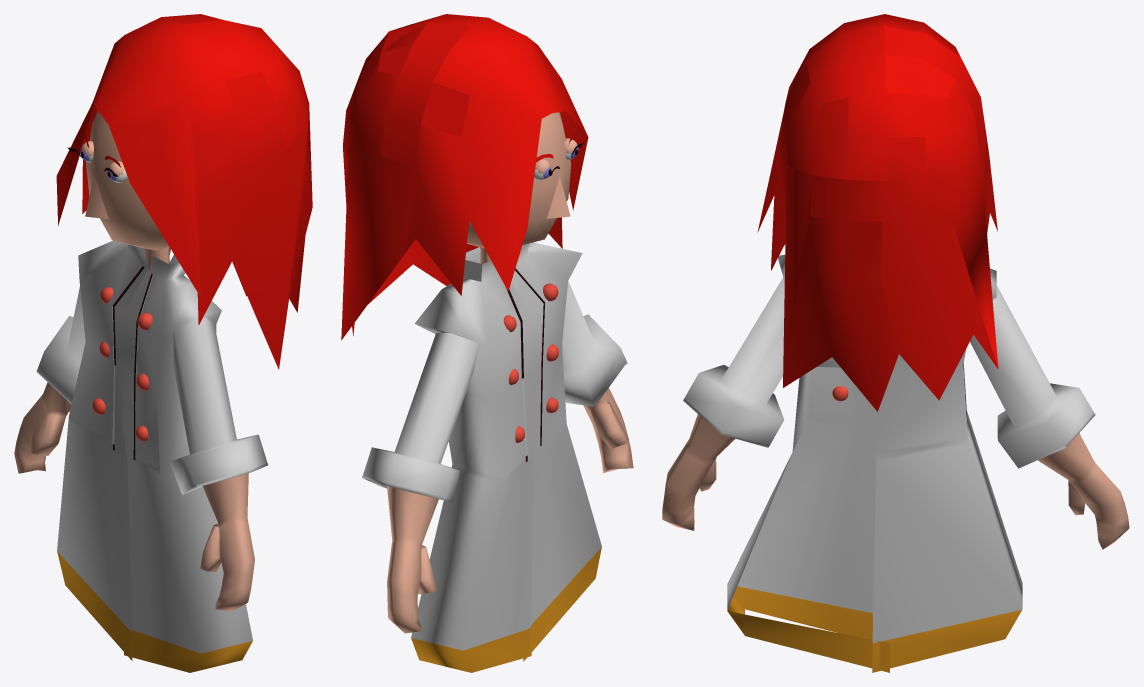
Rendered from Remy the rat normal try #1.fbx.
The picture shows the model from 3 angles, left to right: view 1: azimuth 30°, elevation 25°; view 2: azimuth 150°, elevation 25°; view 3: azimuth 270°, elevation 25°; orthographic projection. The views are drawn at different scales.
Parts seen in each view (by area): view 1: Chef robe; view 2: Chef robe; view 3: Chef robe.
Part boxes in pixels (bbox=[...]): Chef robe: bbox=[14, 14, 312, 672]; Chef robe: bbox=[341, 14, 633, 672]; Chef robe: bbox=[662, 14, 1129, 672].
Size of the model in its own units: 120 by 332 by 217.
